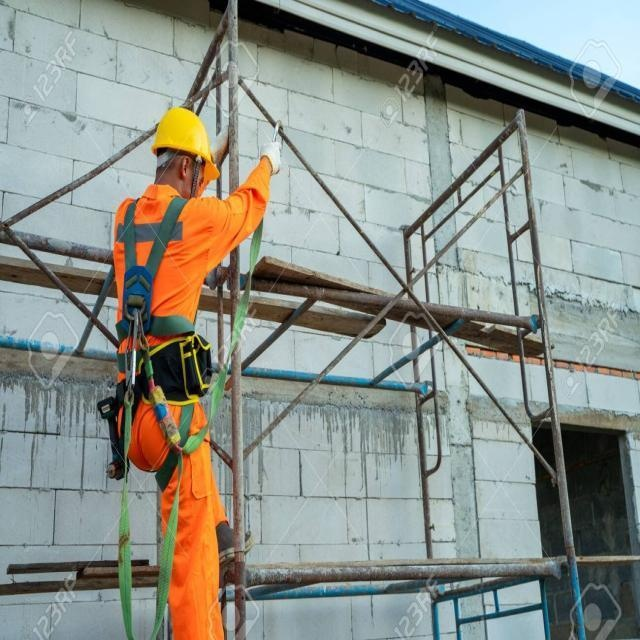Arnes_seguridad: (107, 191, 201, 466)
